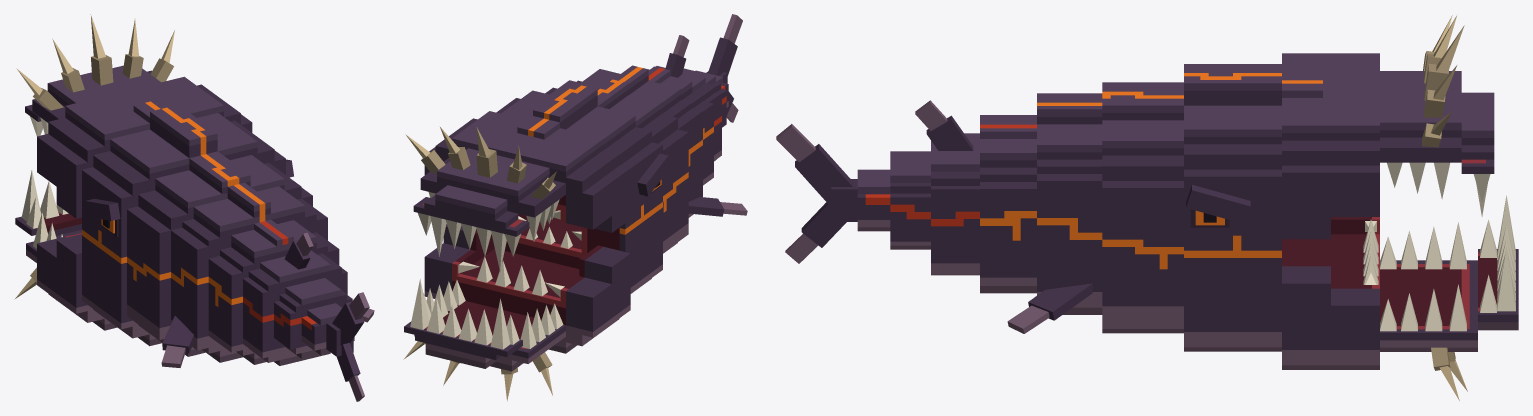
File: TheDevourer.obj
3 renders of one model, left to right at view 1: azimuth 30°, elevation 25°; view 2: azimuth 150°, elevation 25°; view 3: azimuth 270°, elevation 25°, orthographic. The views are drawn at different scales.
Parts seen in each view (by area): view 1: Head, S1, Jaw, S2, S3, S4, Tail, S5; view 2: Head, Jaw, S1, S2, S3, Tail, S4; view 3: Head, Jaw, S1, S2, S3, Tail, S4, S5.
Boxes of the visible parts, x1=… form: Head: x1=16, y1=14, x2=312, y2=356; S1: x1=161, y1=182, x2=374, y2=367; Jaw: x1=14, y1=170, x2=161, y2=346; S2: x1=208, y1=220, x2=339, y2=364; S3: x1=243, y1=232, x2=347, y2=365; S4: x1=274, y1=278, x2=352, y2=358; Tail: x1=326, y1=292, x2=369, y2=401; S5: x1=301, y1=303, x2=354, y2=355; Head: x1=405, y1=77, x2=688, y2=271; Jaw: x1=403, y1=207, x2=662, y2=401; S1: x1=576, y1=65, x2=747, y2=217; S2: x1=648, y1=66, x2=713, y2=185; S3: x1=648, y1=35, x2=721, y2=161; Tail: x1=706, y1=14, x2=742, y2=122; S4: x1=683, y1=68, x2=726, y2=127; Head: x1=1102, y1=14, x2=1494, y2=333; Jaw: x1=1184, y1=195, x2=1518, y2=400; S1: x1=1007, y1=93, x2=1102, y2=333; S2: x1=980, y1=115, x2=1036, y2=293; S3: x1=915, y1=100, x2=979, y2=275; Tail: x1=776, y1=124, x2=857, y2=263; S4: x1=890, y1=151, x2=930, y2=249; S5: x1=857, y1=169, x2=890, y2=231.
Size of the model in its own units: 18.75 by 23.5 by 45.48.
1 material, 1 textured.
